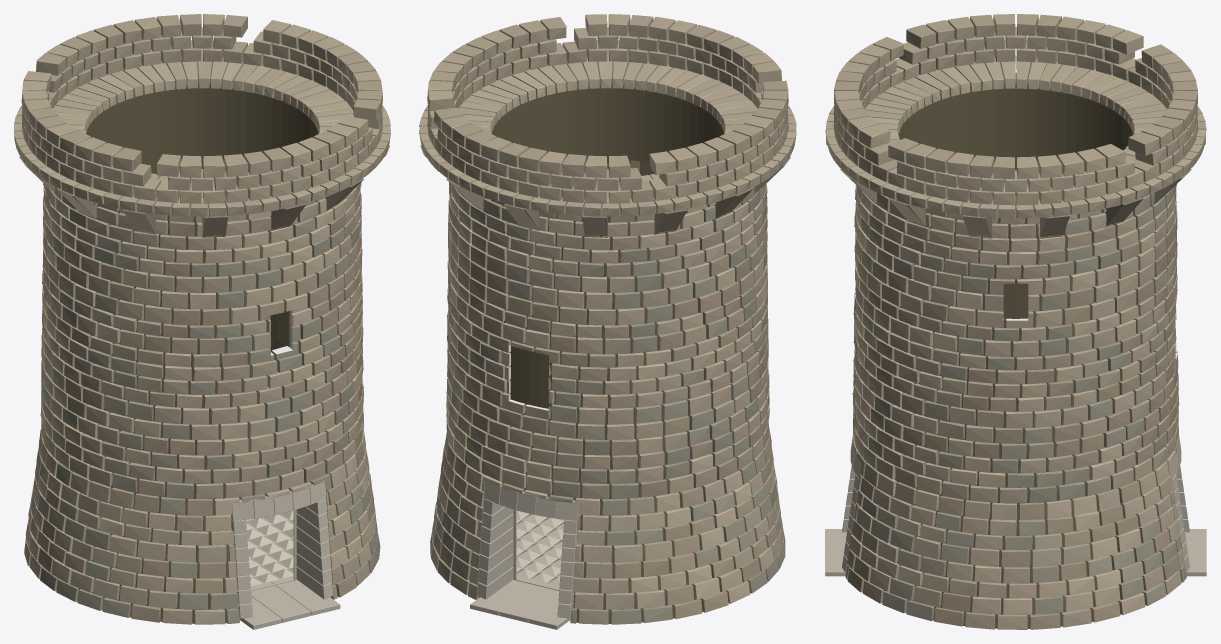
Rendered from Tour_V5_LOD1.fbx.
3 views of the same model, side by side, from view 1: azimuth 30°, elevation 25°; view 2: azimuth 150°, elevation 25°; view 3: azimuth 270°, elevation 25° (orthographic).
Visible parts, largest first — view 1: V5_Distance1_V5_Fut_Granit_Exterieur, V5_Distance1_V5_Couronnement_Consoles, V5_Distance1_V5_Chaux_Coeur_Murs, V5_Distance1_V5_Embrasures_Linteaux_Seuils, V5_Distance1_V5_Dalles_Patine; view 2: V5_Distance1_V5_Fut_Granit_Exterieur, V5_Distance1_V5_Couronnement_Consoles, V5_Distance1_V5_Chaux_Coeur_Murs, V5_Distance1_V5_Embrasures_Linteaux_Seuils, V5_Distance1_V5_Dalles_Patine; view 3: V5_Distance1_V5_Fut_Granit_Exterieur, V5_Distance1_V5_Couronnement_Consoles, V5_Distance1_V5_Chaux_Coeur_Murs, V5_Distance1_V5_Embrasures_Linteaux_Seuils.
Boxes of the visible parts, x1,y1,x2,y2 form: V5_Distance1_V5_Fut_Granit_Exterieur: (24,182,380,624); V5_Distance1_V5_Couronnement_Consoles: (14,14,390,237); V5_Distance1_V5_Chaux_Coeur_Murs: (68,73,333,623); V5_Distance1_V5_Embrasures_Linteaux_Seuils: (231,481,340,629); V5_Distance1_V5_Dalles_Patine: (246,510,293,585); V5_Distance1_V5_Fut_Granit_Exterieur: (430,182,785,624); V5_Distance1_V5_Couronnement_Consoles: (419,14,796,237); V5_Distance1_V5_Chaux_Coeur_Murs: (471,73,740,623); V5_Distance1_V5_Embrasures_Linteaux_Seuils: (470,481,579,629); V5_Distance1_V5_Dalles_Patine: (516,510,564,586); V5_Distance1_V5_Fut_Granit_Exterieur: (845,72,1186,629); V5_Distance1_V5_Couronnement_Consoles: (825,14,1206,238); V5_Distance1_V5_Chaux_Coeur_Murs: (877,73,1152,628); V5_Distance1_V5_Embrasures_Linteaux_Seuils: (825,436,1206,576).
Size of the model in its own units: 900 by 1214 by 900.
